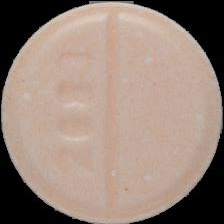0172-2083: (0, 0, 224, 224)
